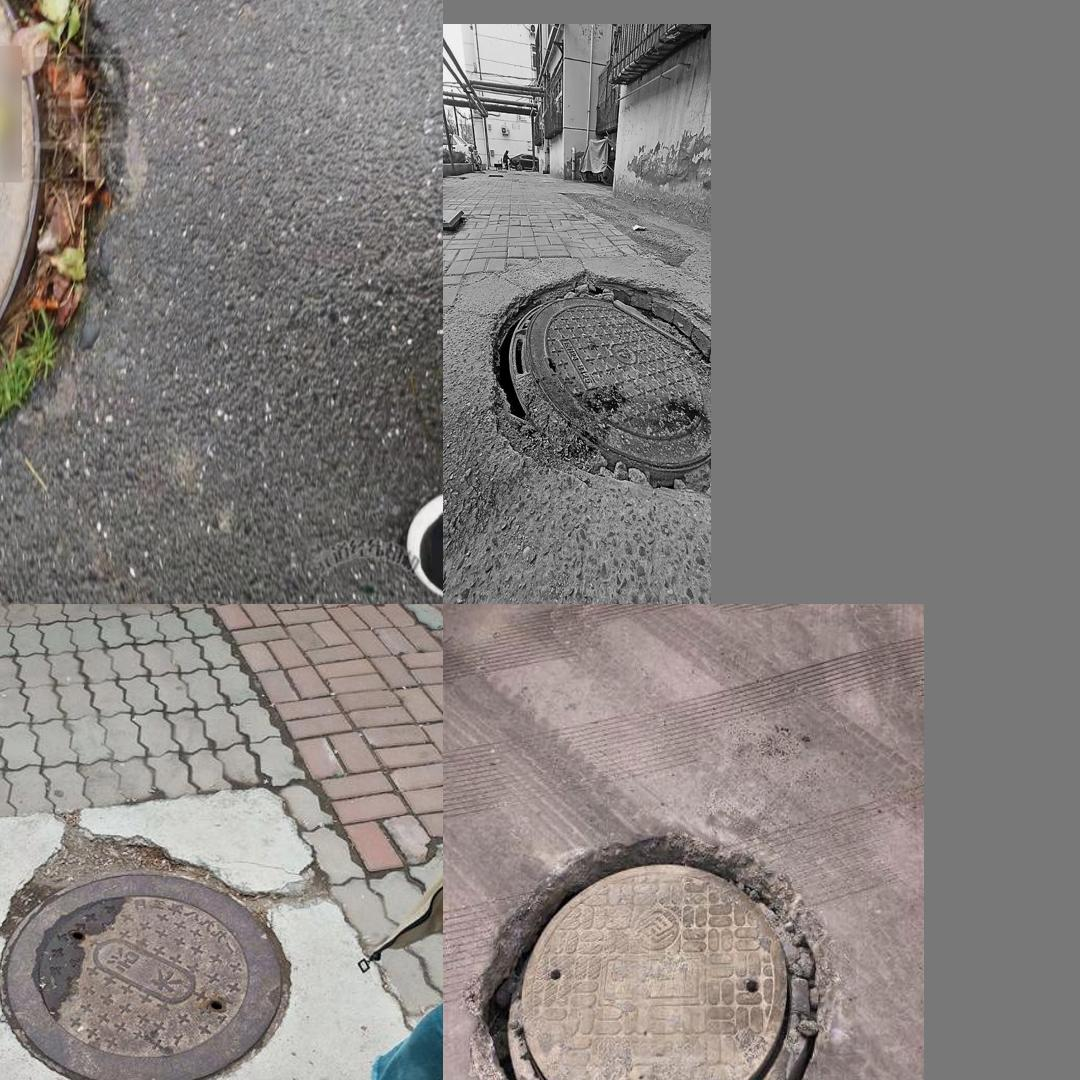circle: (0, 818, 346, 1080), (483, 837, 827, 1080), (478, 257, 710, 557), (0, 0, 128, 520)
